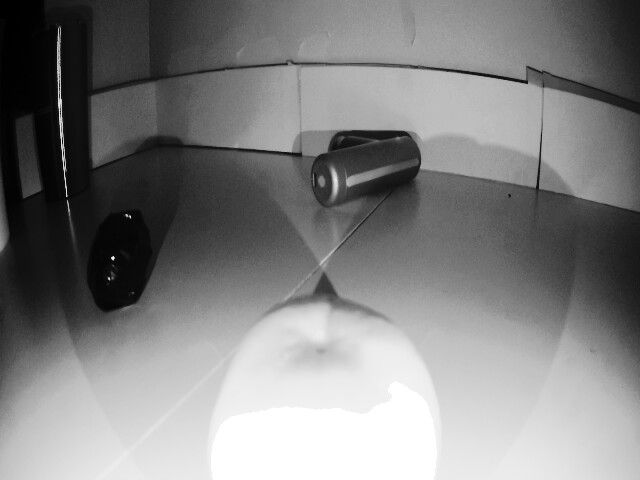black: (86, 217, 152, 307)
